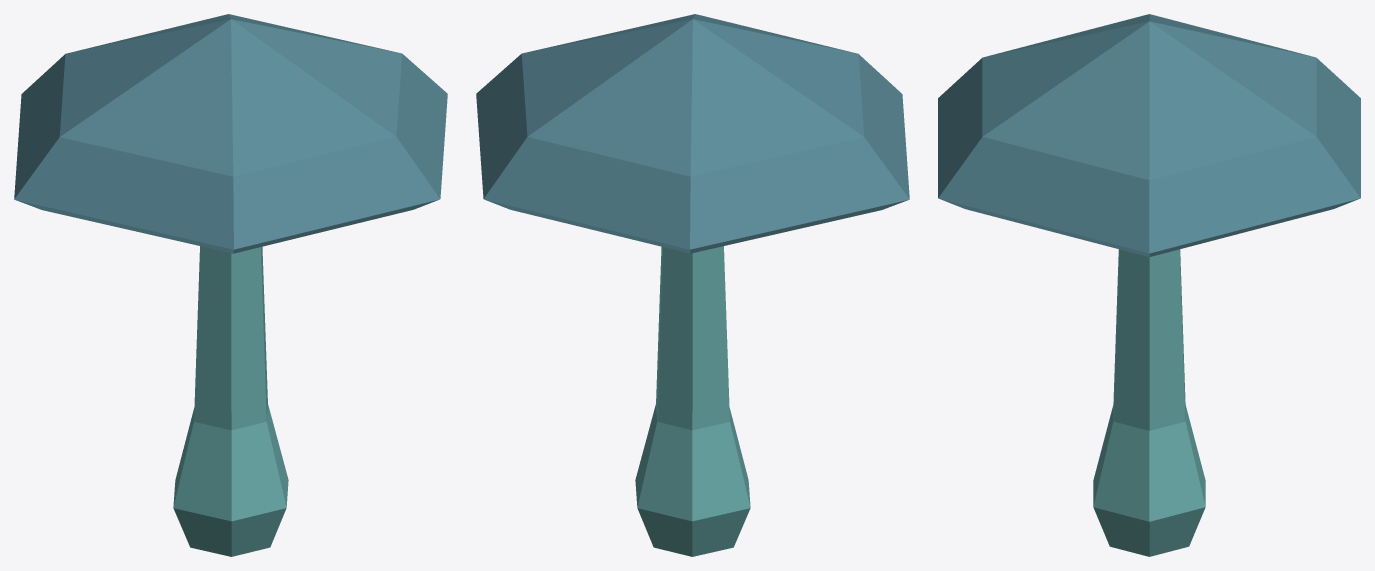
File: Mushroom-A05.fbx
3 renders of one model, left to right at view 1: azimuth 30°, elevation 25°; view 2: azimuth 150°, elevation 25°; view 3: azimuth 270°, elevation 25°, orthographic.
Visible parts, largest first — view 1: Mushroom-A05; view 2: Mushroom-A05; view 3: Mushroom-A05.
Part boxes in pixels (x1,y1,x2,y2): Mushroom-A05: (14, 14, 447, 556); Mushroom-A05: (476, 14, 909, 556); Mushroom-A05: (938, 14, 1360, 556).
Size of the model in its own units: 55.61 by 63.53 by 47.19.
